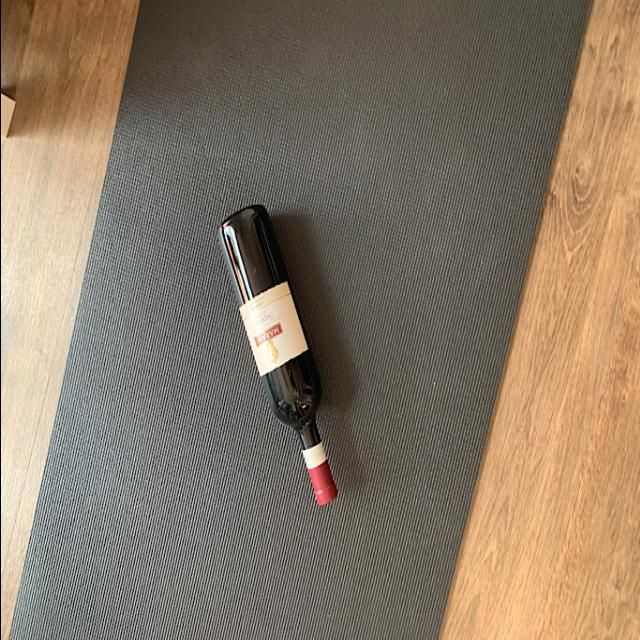litter: (208, 205, 344, 504)
